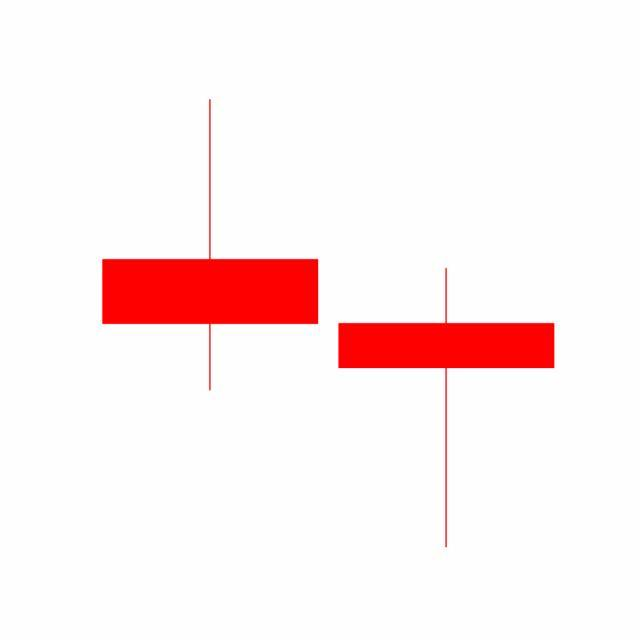Spinning Top: (328, 266, 566, 551)
